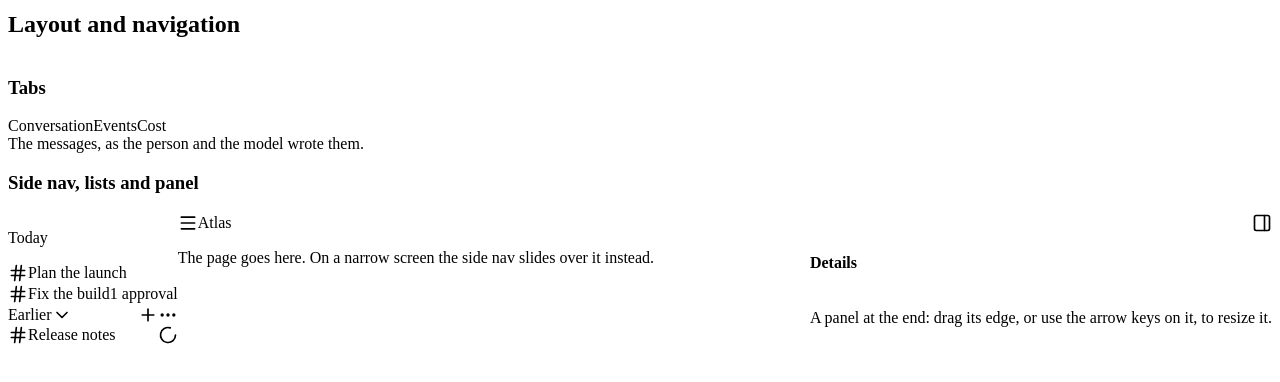
Test case: ShowcaseLayoutComponent › opens a list’s options from its ⋯, and picks one
Step 1. Click the button with test id "showcase-earlier-more-trigger" → (168, 315), box top-left (158, 305), bottom-right (178, 325)
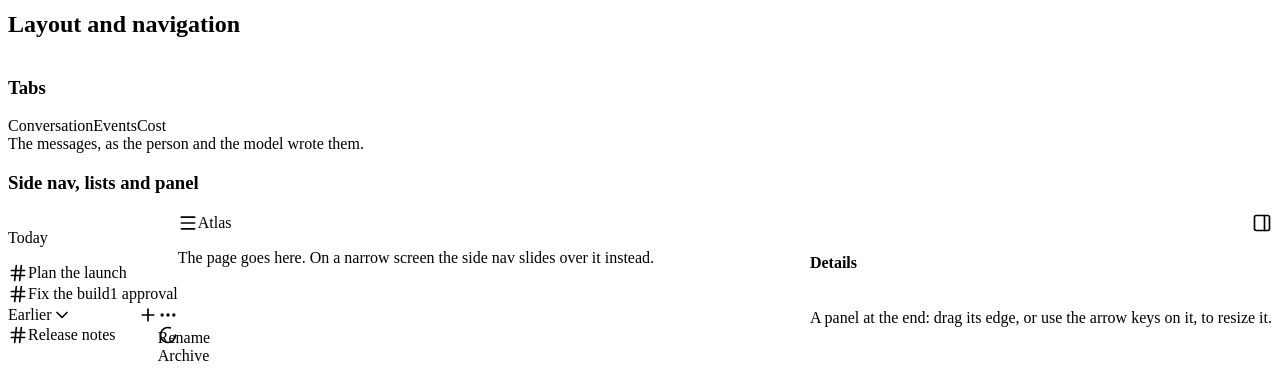
Step 2. Click the menu item with test id "showcase-earlier-more-action" showing "Archive" → (270, 356), box top-left (158, 347), bottom-right (382, 365)
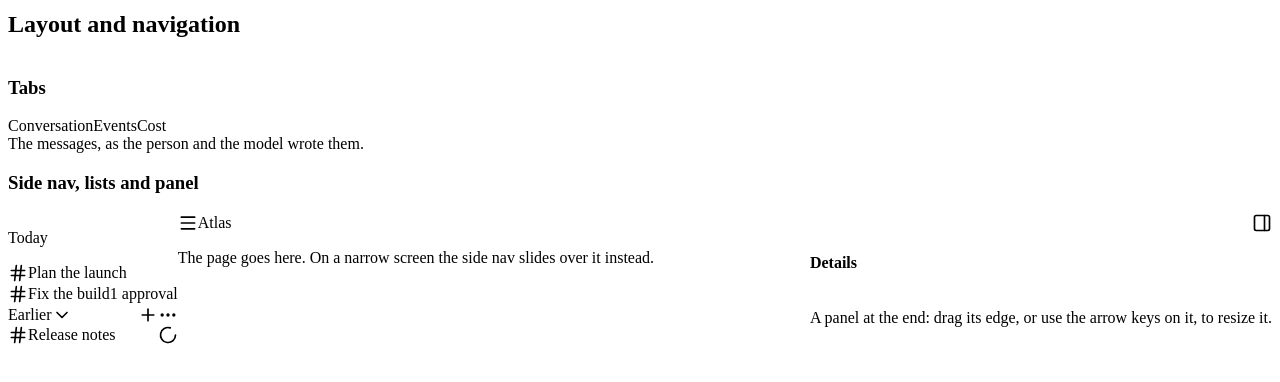
Expected: the menu is gone
